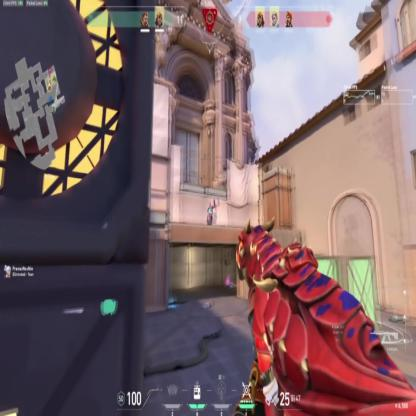enemy: (207, 201, 214, 225)
enemy_head: (209, 203, 211, 208)
